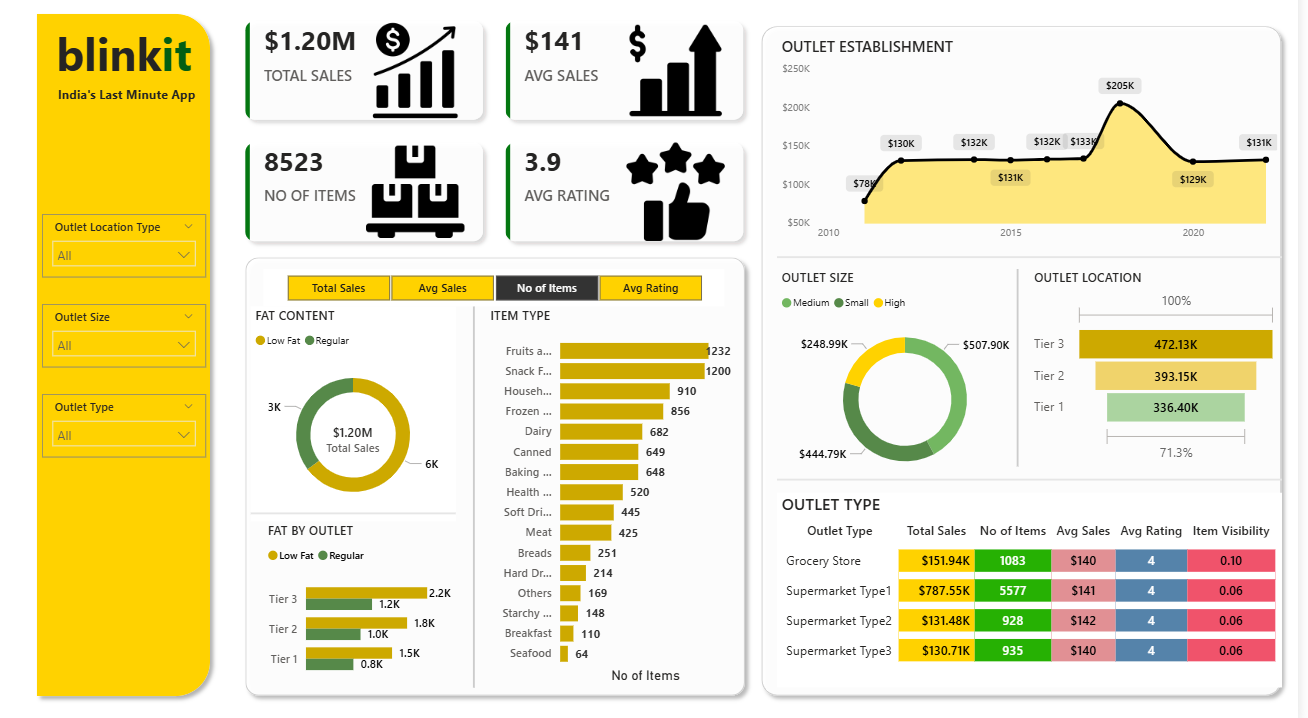

The dashboard page shown, as its layout file describes it:
{"tool":"powerbi","page":{"name":"Page 1","canvas":[1400,800],"ordinal":0},"visuals":[{"type":"shape","box":[39,28.5,204,750],"z":0},{"type":"textbox","box":[54,42,175.6,220.6],"z":1000},{"type":"textbox","box":[66,109.6,177.1,30],"z":2000},{"type":"cardVisual","fields":{"Data":["BlinkIT Grocery Data.Total Sales","BlinkIT Grocery Data.Avg Sales","BlinkIT Grocery Data.No of Items","BlinkIT Grocery Data.Avg Rating"]},"box":[254.7,28.2,569.7,270.8],"z":3000},{"type":"shape","box":[262.7,289.5,553.6,487.9],"z":4000},{"type":"donutChart","title":"FAT CONTENT","fields":{"Y":["BlinkIT Grocery Data.No of Items"],"Category":["BlinkIT Grocery Data.Item Fat Content"]},"box":[277.5,351.2,219.8,230.6],"z":5000},{"type":"slicer","fields":{"Values":["Metrics.Metrics"]},"box":[290.9,311,494.6,40.2],"z":6000},{"type":"cardVisual","fields":{"Data":["BlinkIT Grocery Data.Total Sales"]},"box":[332.4,454.4,109.9,79.1],"z":7000},{"type":"clusteredBarChart","title":"FAT BY OUTLET","fields":{"Y":["BlinkIT Grocery Data.No of Items"],"Category":["BlinkIT Grocery Data.Outlet Location Type"],"Series":["BlinkIT Grocery Data.Item Fat Content"]},"box":[290.9,581.8,206.4,178.3],"z":8000},{"type":"shape","box":[277.5,550.9,219.8,44.2],"z":9000},{"type":"shape","box":[477.2,351.2,79.1,408.8],"z":10000},{"type":"barChart","title":"ITEM TYPE","fields":{"Y":["BlinkIT Grocery Data.No of Items"],"Category":["BlinkIT Grocery Data.Item Type"]},"box":[529.5,351.2,268.1,408.8],"z":11000},{"type":"shape","box":[816.4,41.6,575.1,735.9],"z":12000},{"type":"lineChart","title":"OUTLET ESTABLISHMENT","fields":{"Y":["BlinkIT Grocery Data.Total Sales"],"Category":["BlinkIT Grocery Data.Outlet Establishment Year"]},"box":[841.8,60.3,541.6,229.2],"z":13000},{"type":"shape","box":[841.8,276.1,541.6,44.2],"z":14000},{"type":"donutChart","title":"OUTLET SIZE","fields":{"Y":["BlinkIT Grocery Data.Total Sales"],"Category":["BlinkIT Grocery Data.Outlet Size"]},"box":[841.8,311,274.8,234.6],"z":15000},{"type":"shape","box":[1060.3,311,79.1,211.8],"z":16000},{"type":"funnel","title":"OUTLET LOCATION","fields":{"Y":["Sum(BlinkIT Grocery Data.Sales)"],"Category":["BlinkIT Grocery Data.Outlet Location Type"]},"box":[1112.6,311,270.8,211.8],"z":17000},{"type":"shape","box":[841.8,522.8,541.6,28.2],"z":18000},{"type":"pivotTable","title":"OUTLET TYPE","fields":{"Rows":["BlinkIT Grocery Data.Outlet Type"],"Values":["BlinkIT Grocery Data.Total Sales","BlinkIT Grocery Data.No of Items","BlinkIT Grocery Data.Avg Sales","BlinkIT Grocery Data.Avg Rating","Avg(BlinkIT Grocery Data.Item Visibility)"]},"box":[841.8,550.9,541.6,209.1],"z":19000},{"type":"slicer","fields":{"Values":["BlinkIT Grocery Data.Outlet Location Type"]},"box":[53.6,252,175.6,68.4],"z":20000},{"type":"slicer","fields":{"Values":["BlinkIT Grocery Data.Outlet Size"]},"box":[53.6,348.5,175.6,68.4],"z":21000},{"type":"slicer","fields":{"Values":["BlinkIT Grocery Data.Outlet Type"]},"box":[53.6,445,175.6,68.4],"z":22000}]}

Visuals, with their boxes on the page's 1400x800 design canvas (x1, y1, x2, y2). These are canvas units, not pixel positions in the 1308x718 screenshot, which may show the page scaled, cropped or inside an application window:
shape: [39, 28, 243, 778]
textbox: [54, 42, 230, 263]
textbox: [66, 110, 243, 140]
cardVisual - BlinkIT Grocery Data.Total Sales x BlinkIT Grocery Data.Avg Sales: [255, 28, 824, 299]
shape: [263, 290, 816, 777]
"FAT CONTENT" donutChart: [278, 351, 497, 582]
slicer - Metrics.Metrics: [291, 311, 786, 351]
cardVisual - BlinkIT Grocery Data.Total Sales: [332, 454, 442, 534]
"FAT BY OUTLET" clusteredBarChart: [291, 582, 497, 760]
shape: [278, 551, 497, 595]
shape: [477, 351, 556, 760]
"ITEM TYPE" barChart: [530, 351, 798, 760]
shape: [816, 42, 1392, 778]
"OUTLET ESTABLISHMENT" lineChart: [842, 60, 1383, 290]
shape: [842, 276, 1383, 320]
"OUTLET SIZE" donutChart: [842, 311, 1117, 546]
shape: [1060, 311, 1139, 523]
"OUTLET LOCATION" funnel: [1113, 311, 1383, 523]
shape: [842, 523, 1383, 551]
"OUTLET TYPE" pivotTable: [842, 551, 1383, 760]
slicer - BlinkIT Grocery Data.Outlet Location Type: [54, 252, 229, 320]
slicer - BlinkIT Grocery Data.Outlet Size: [54, 348, 229, 417]
slicer - BlinkIT Grocery Data.Outlet Type: [54, 445, 229, 513]
